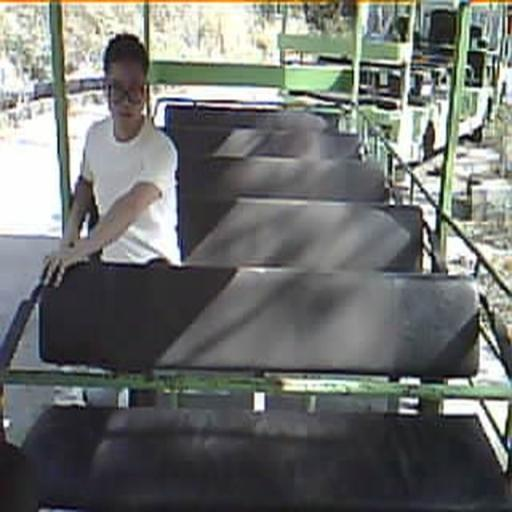persona: (40, 32, 182, 288)
